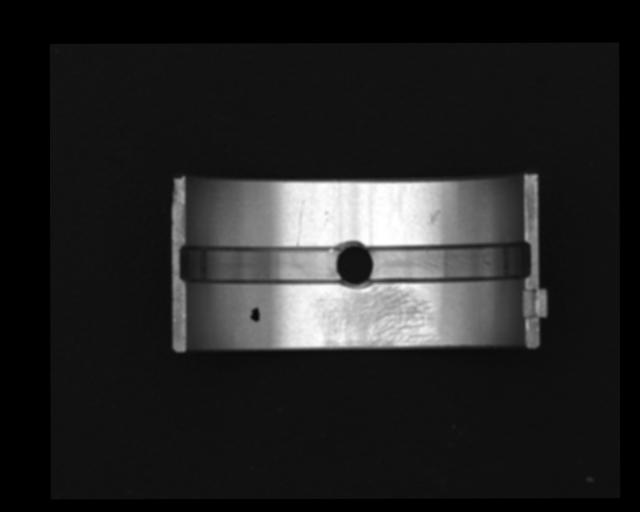blot: (248, 305, 261, 322)
bruise: (428, 208, 442, 224)
gap: (366, 242, 532, 283), (180, 245, 341, 285)
hole: (334, 237, 373, 290)
nick: (296, 208, 303, 247)
scratch: (312, 284, 437, 347)
